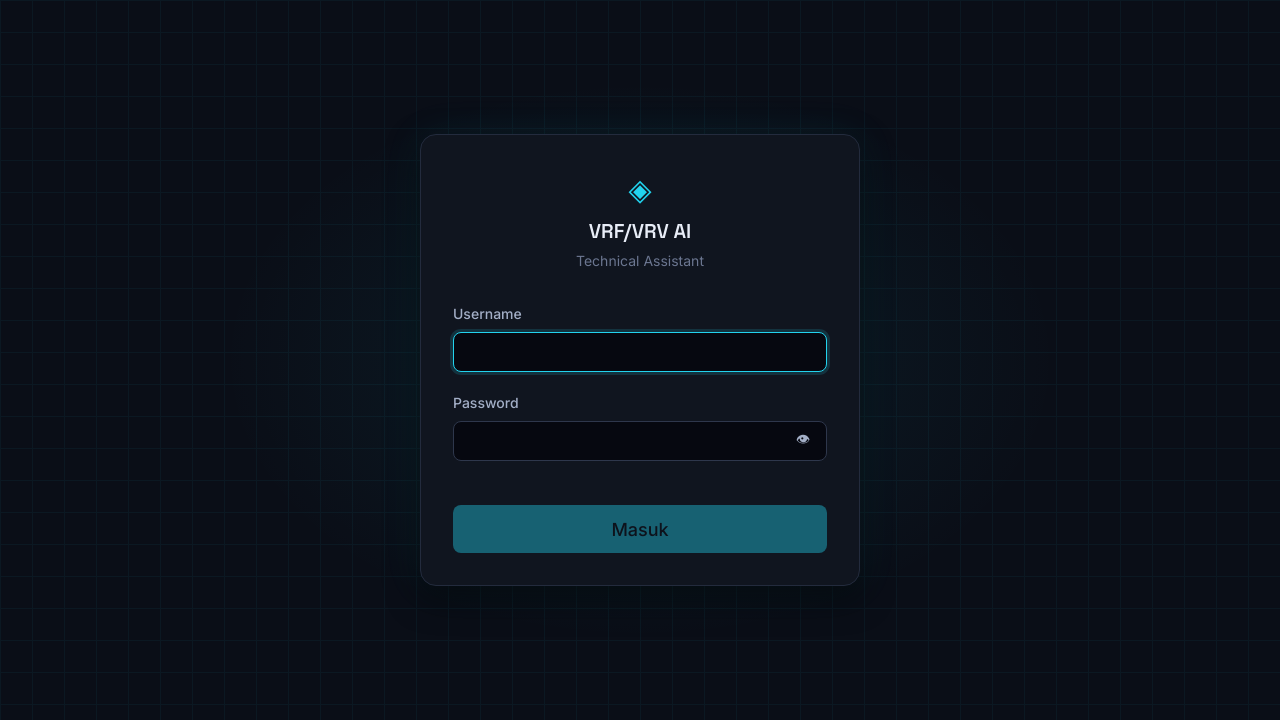
Scenario: LoginPage › shows a mono countdown on 429 using retry_after_seconds from the backend
Type "jalal" into the field labelled "Username" at (640, 352), box [453, 332, 827, 372]
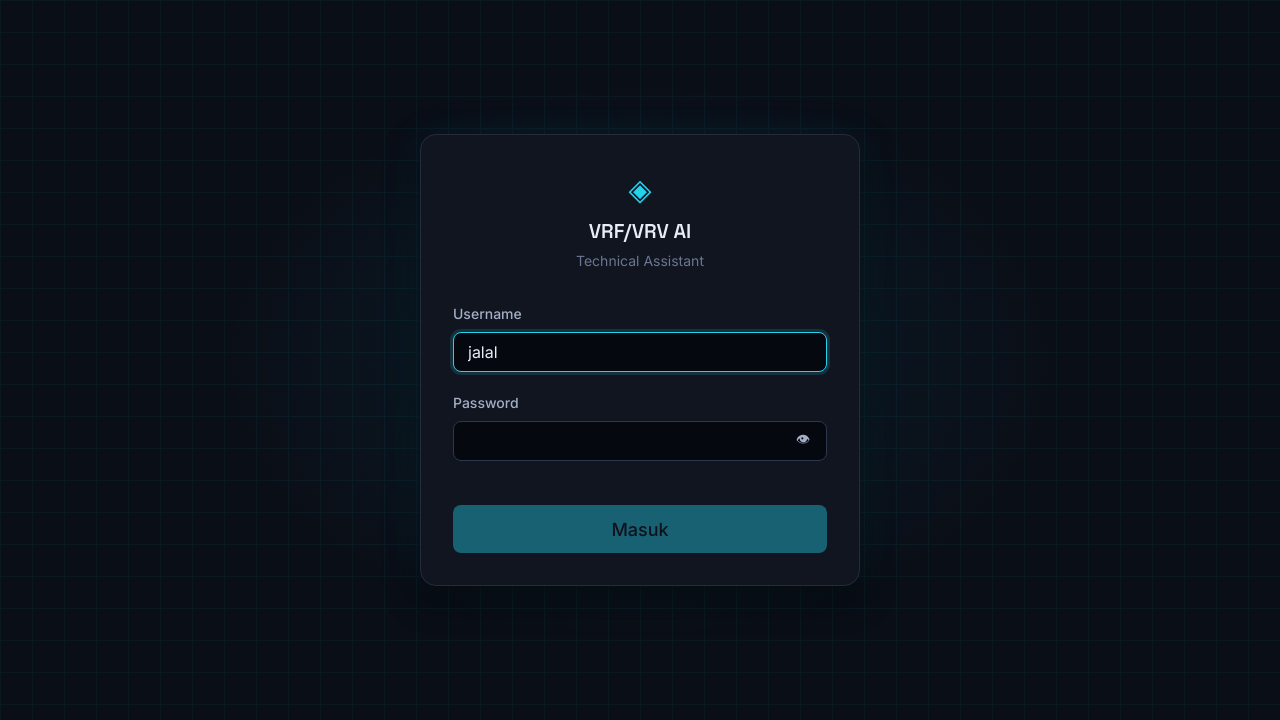
Type "whatever" into the password field labelled "Password" at (640, 441), box [453, 421, 827, 461]
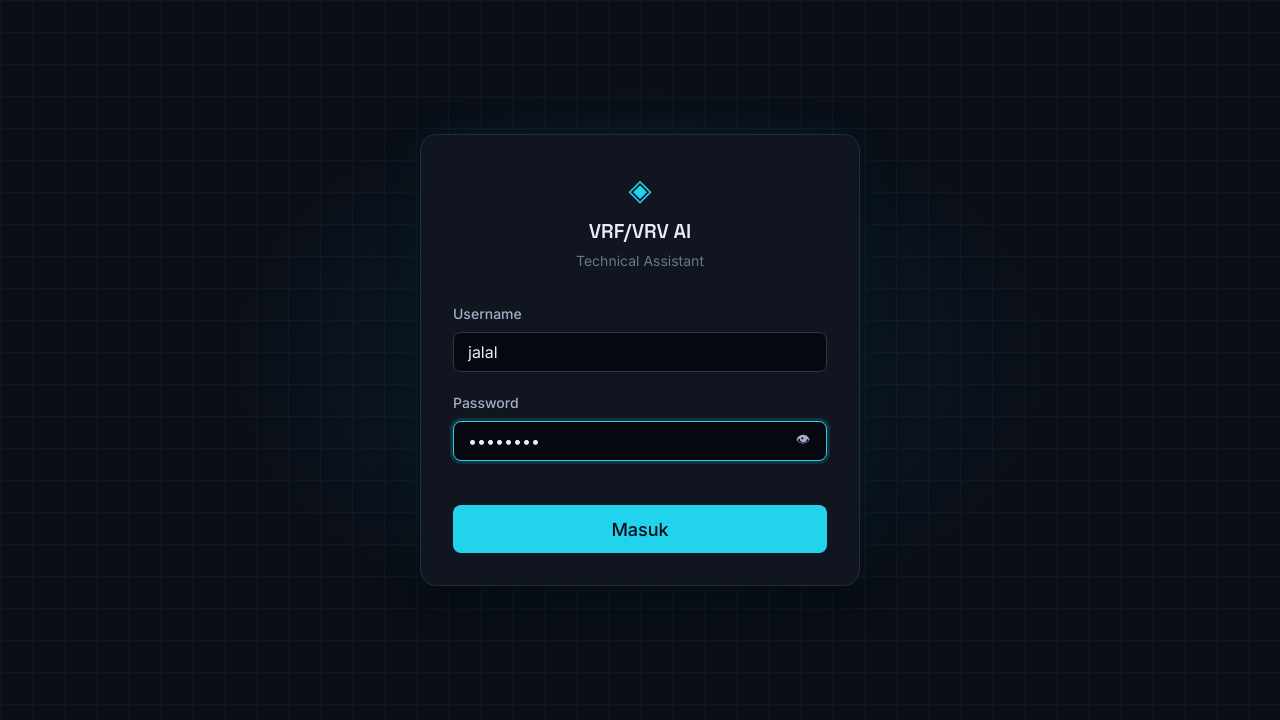
Click the button "Masuk" at (640, 529), box [453, 505, 827, 553]
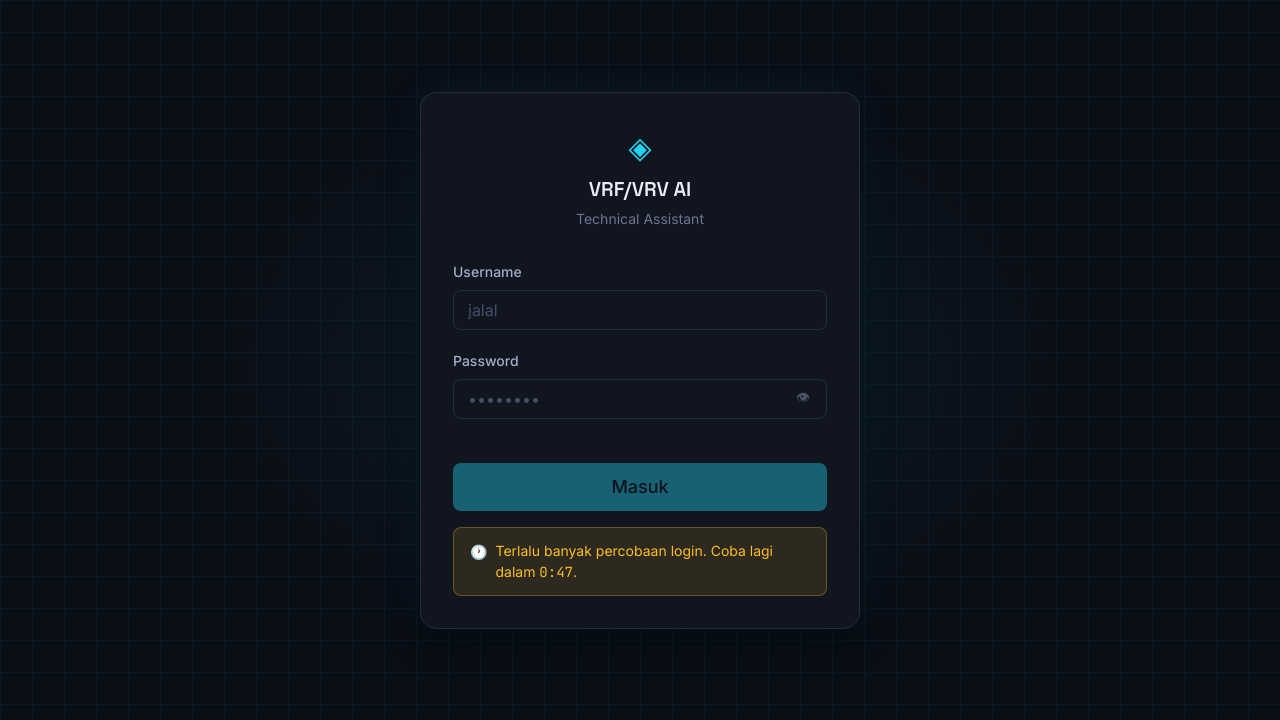
Check: the message shows "0:47", box [539, 562, 573, 580]
Check: the button "Masuk" is disabled, box [453, 462, 827, 510]
Check: the field labelled "Username" is disabled, box [453, 290, 827, 330]
